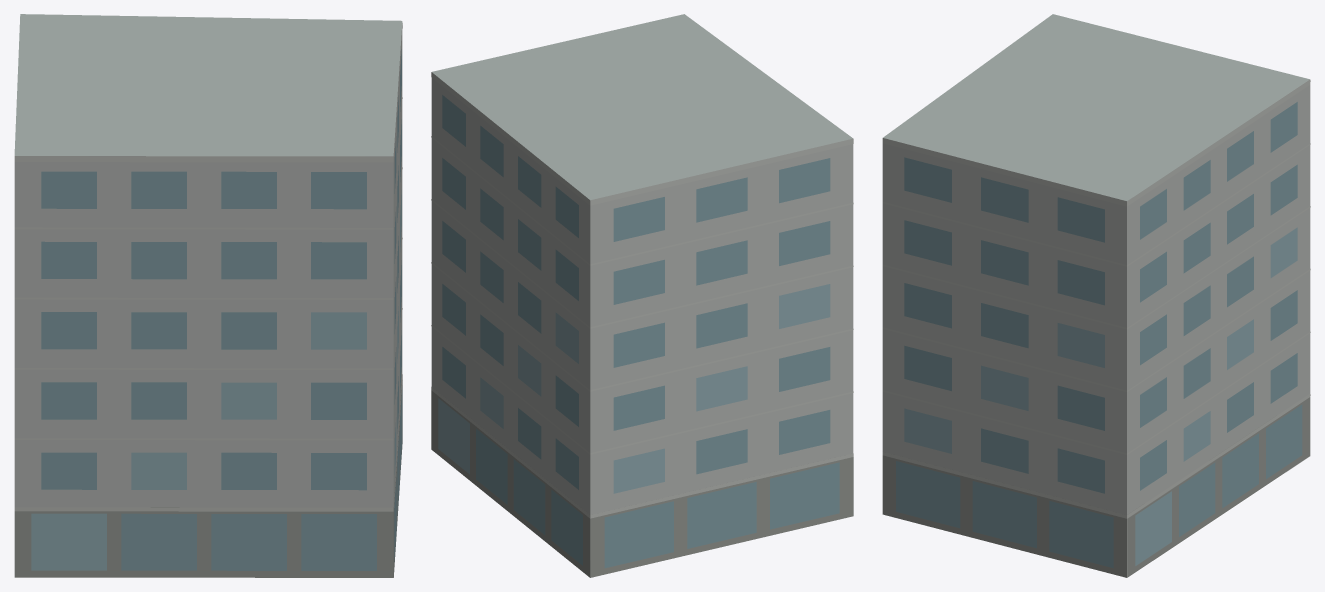
File: survey-upis-32737739.glb
The picture shows the model from 3 angles, left to right: view 1: azimuth 30°, elevation 25°; view 2: azimuth 150°, elevation 25°; view 3: azimuth 270°, elevation 25°; orthographic projection. The views are drawn at different scales.
Visible parts, largest first — view 1: survey-upis-32737739.tmp; view 2: survey-upis-32737739.tmp; view 3: survey-upis-32737739.tmp.
Part boxes in pixels (left/top/right/bottom): survey-upis-32737739.tmp: left=14, top=14, right=402, bottom=577; survey-upis-32737739.tmp: left=431, top=14, right=853, bottom=577; survey-upis-32737739.tmp: left=882, top=14, right=1310, bottom=577.
Bounding box in the file's own units: 18.15 × 17 × 17.52.
